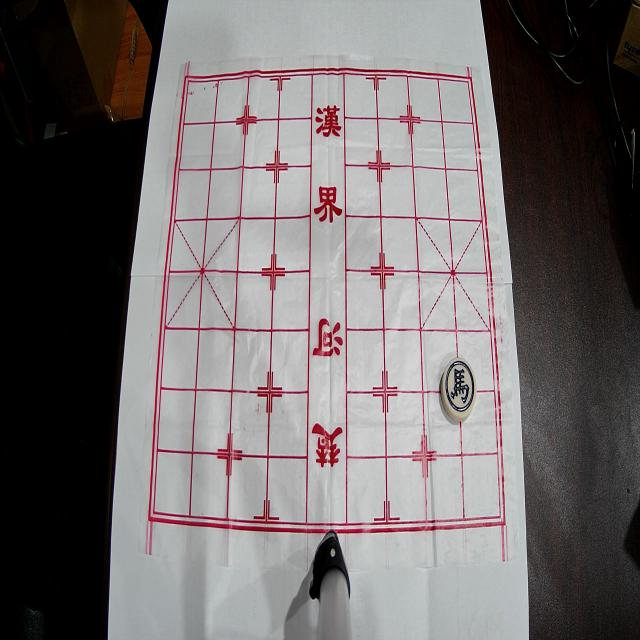black-horse: (441, 357, 477, 422)
